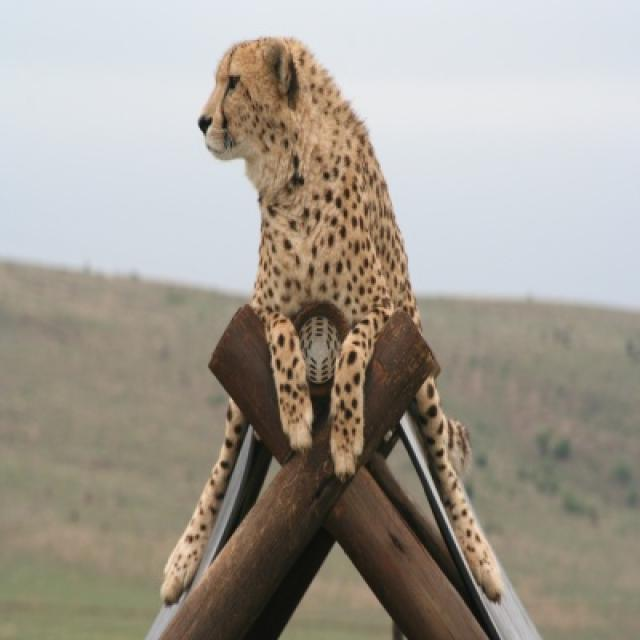Cheetah: (160, 39, 434, 602), (421, 370, 505, 592)
